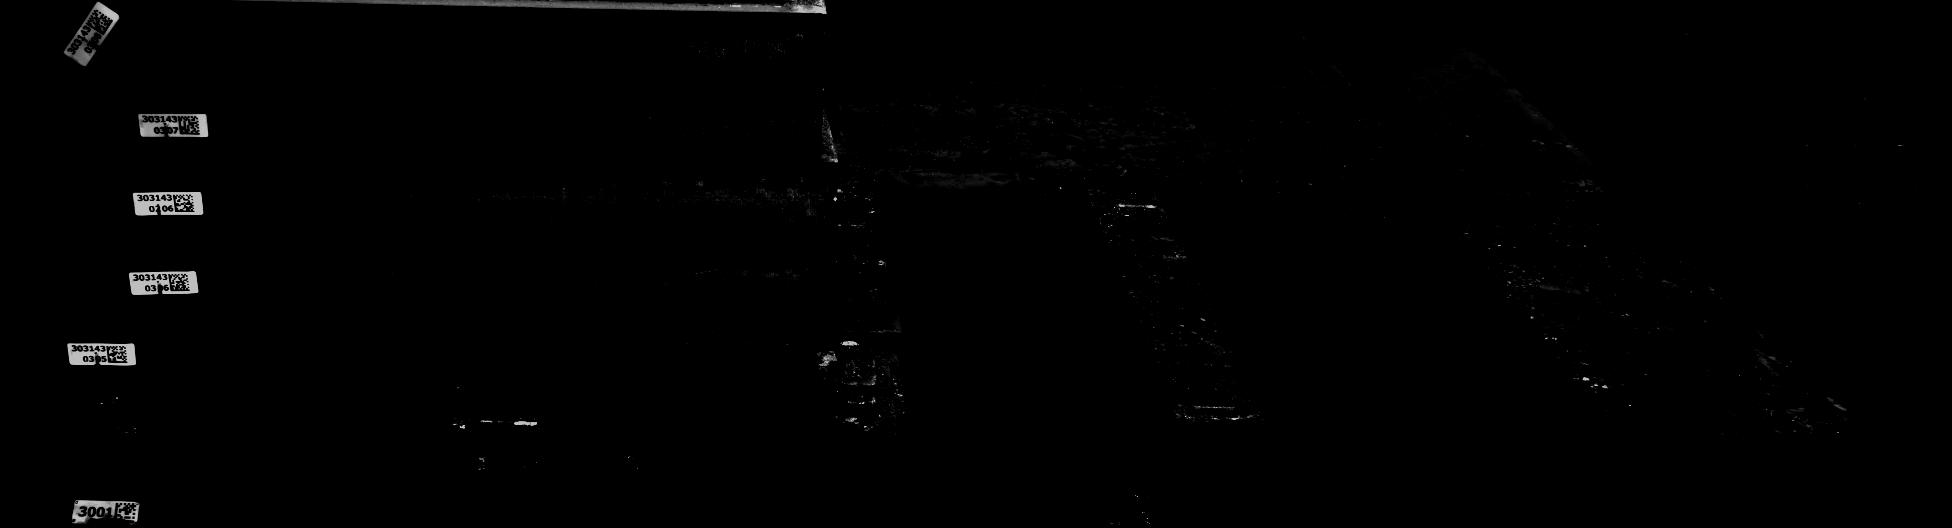data matrix: (86, 7, 115, 37), (113, 502, 139, 526), (178, 115, 203, 137), (173, 194, 197, 215), (169, 273, 192, 294), (107, 346, 129, 367)
